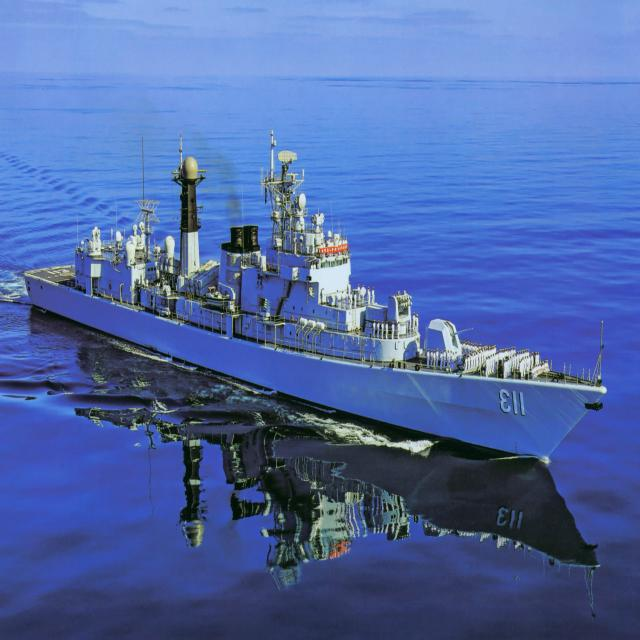navalvessels: (17, 126, 625, 460)
